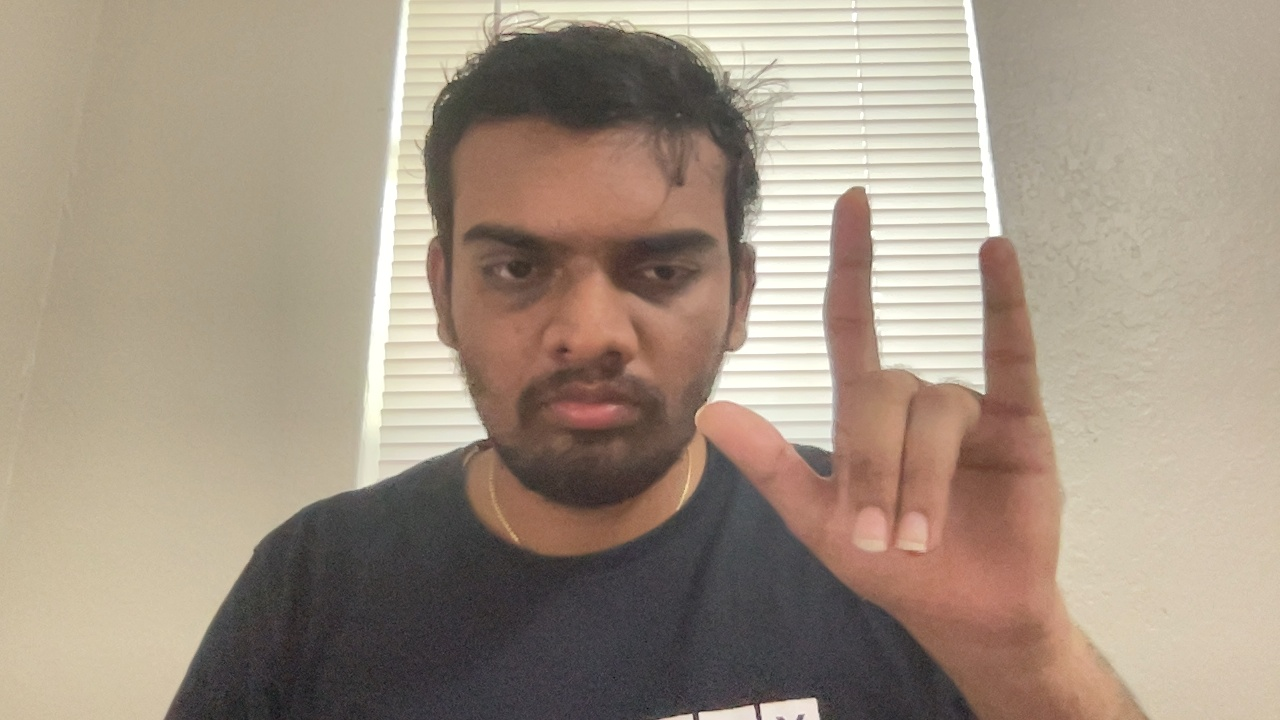i love you: (695, 178, 1070, 661)
